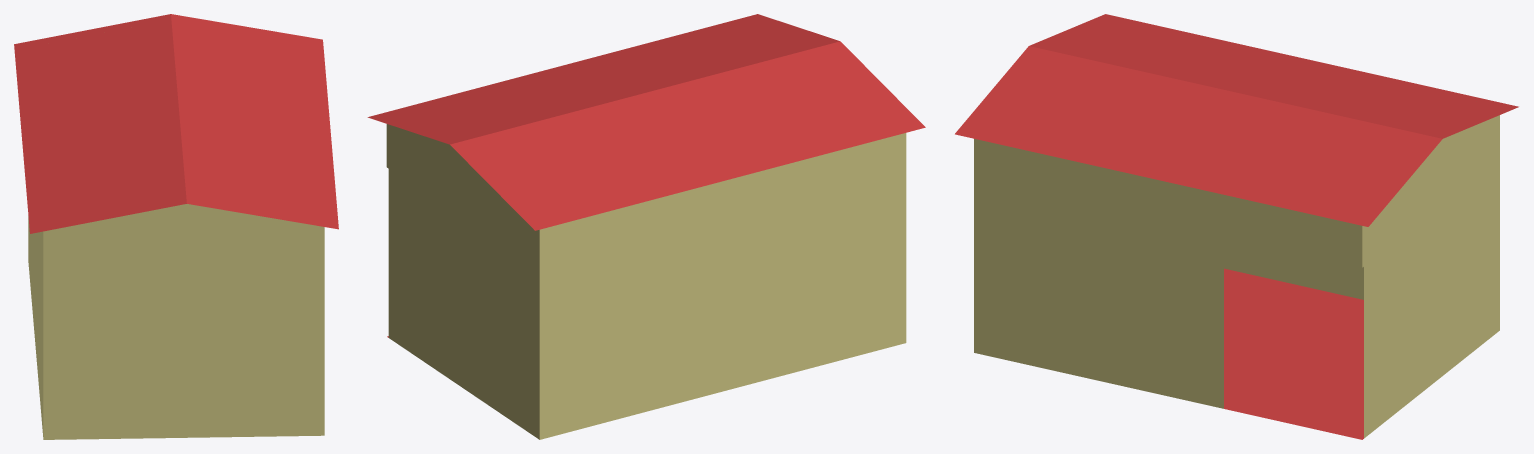
3 renders of one model, left to right at view 1: azimuth 30°, elevation 25°; view 2: azimuth 150°, elevation 25°; view 3: azimuth 270°, elevation 25°, orthographic. The views are drawn at different scales.
Size of the model in its own units: 17.4 by 19.5 by 9.52.
